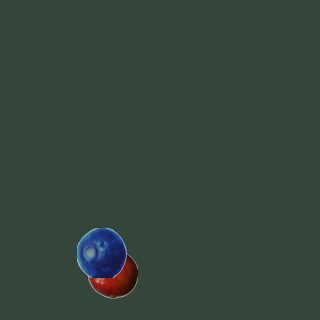Apple Braeburn: (87, 248, 137, 298)
Huckleberry: (76, 227, 126, 277)
